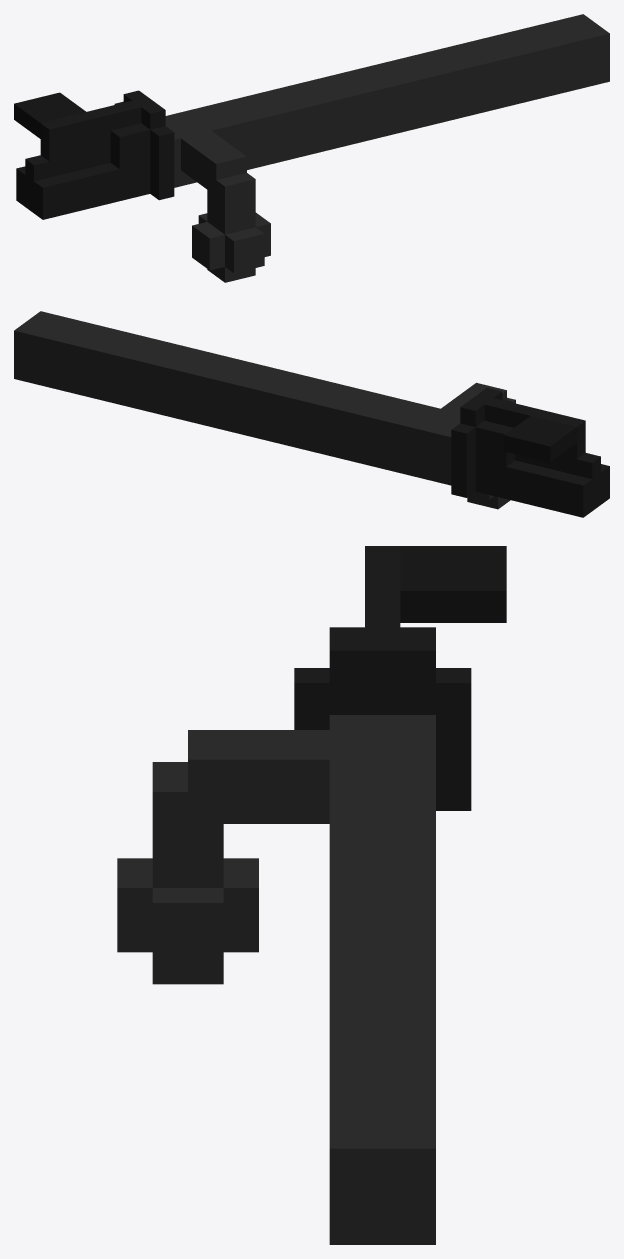
File: Kar98k_bolt_prefab.obj
3 views of the same model, one above another, from view 1: azimuth 30°, elevation 25°; view 2: azimuth 150°, elevation 25°; view 3: azimuth 270°, elevation 25° (orthographic). The views are drawn at different scales.
Bounding box in the file's own units: 3.7 × 0.9 × 1.1.
1 material, 1 textured.
